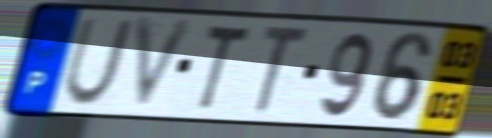6: (367, 29, 435, 125)
9: (317, 29, 374, 120)
T: (252, 22, 313, 118), (198, 20, 254, 115)
U: (60, 17, 138, 109)
V: (130, 15, 200, 117)
